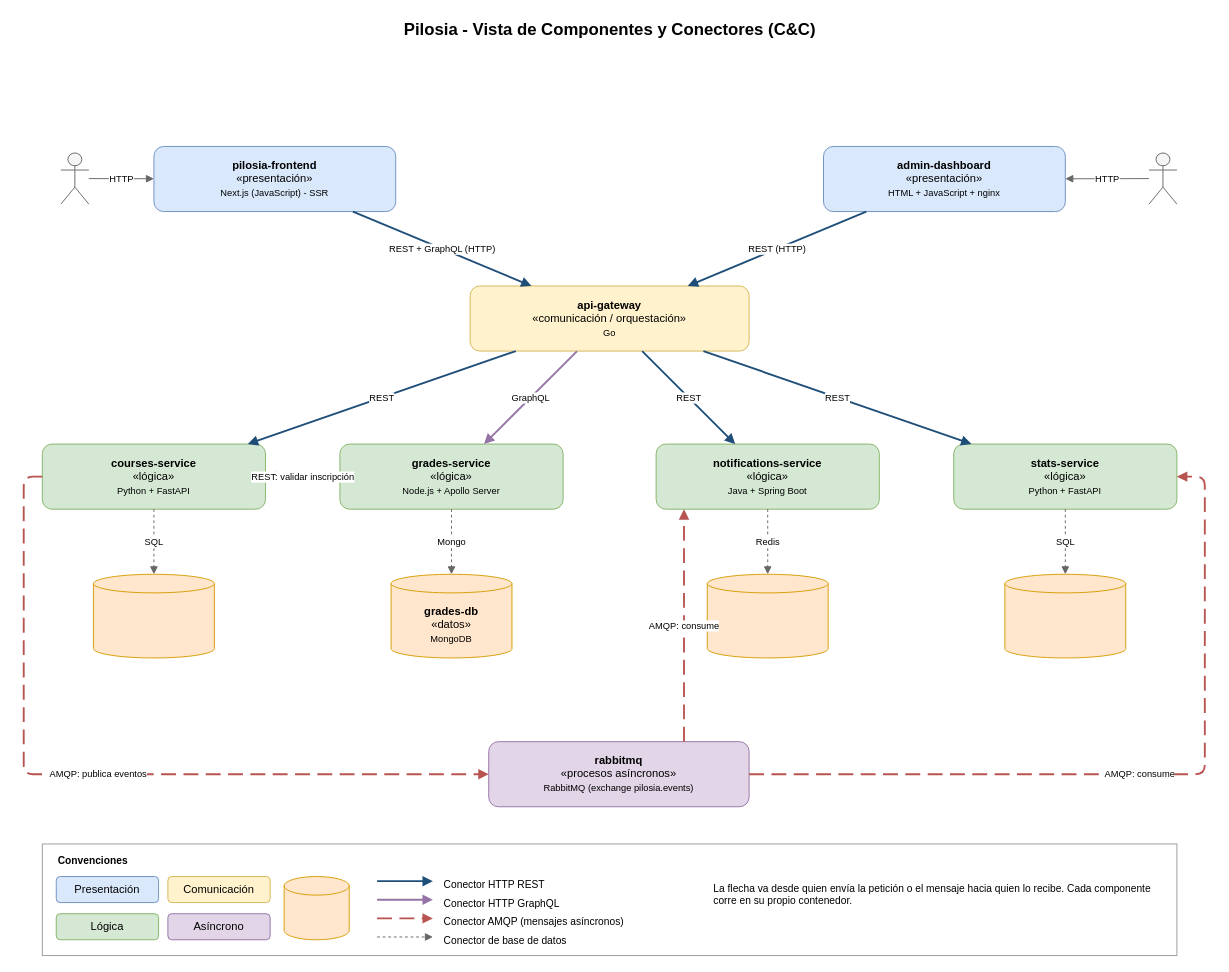
Image size: 1229x972. Some labels were removed from this diagram. The centre of each missing label's shape, as x and y in pixels:
"Administrador" goes at (x=1162, y=178).
"courses-db «datos» PostgreSQL" goes at (x=153, y=615).
"Datos" goes at (x=316, y=908).
"Estudiante / Docente" goes at (x=74, y=178).
"notifications-db «datos» Redis" goes at (x=767, y=615).
"stats-db «datos» PostgreSQL" goes at (x=1065, y=615).
